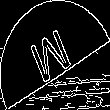M_SE: (30, 21, 80, 89)
